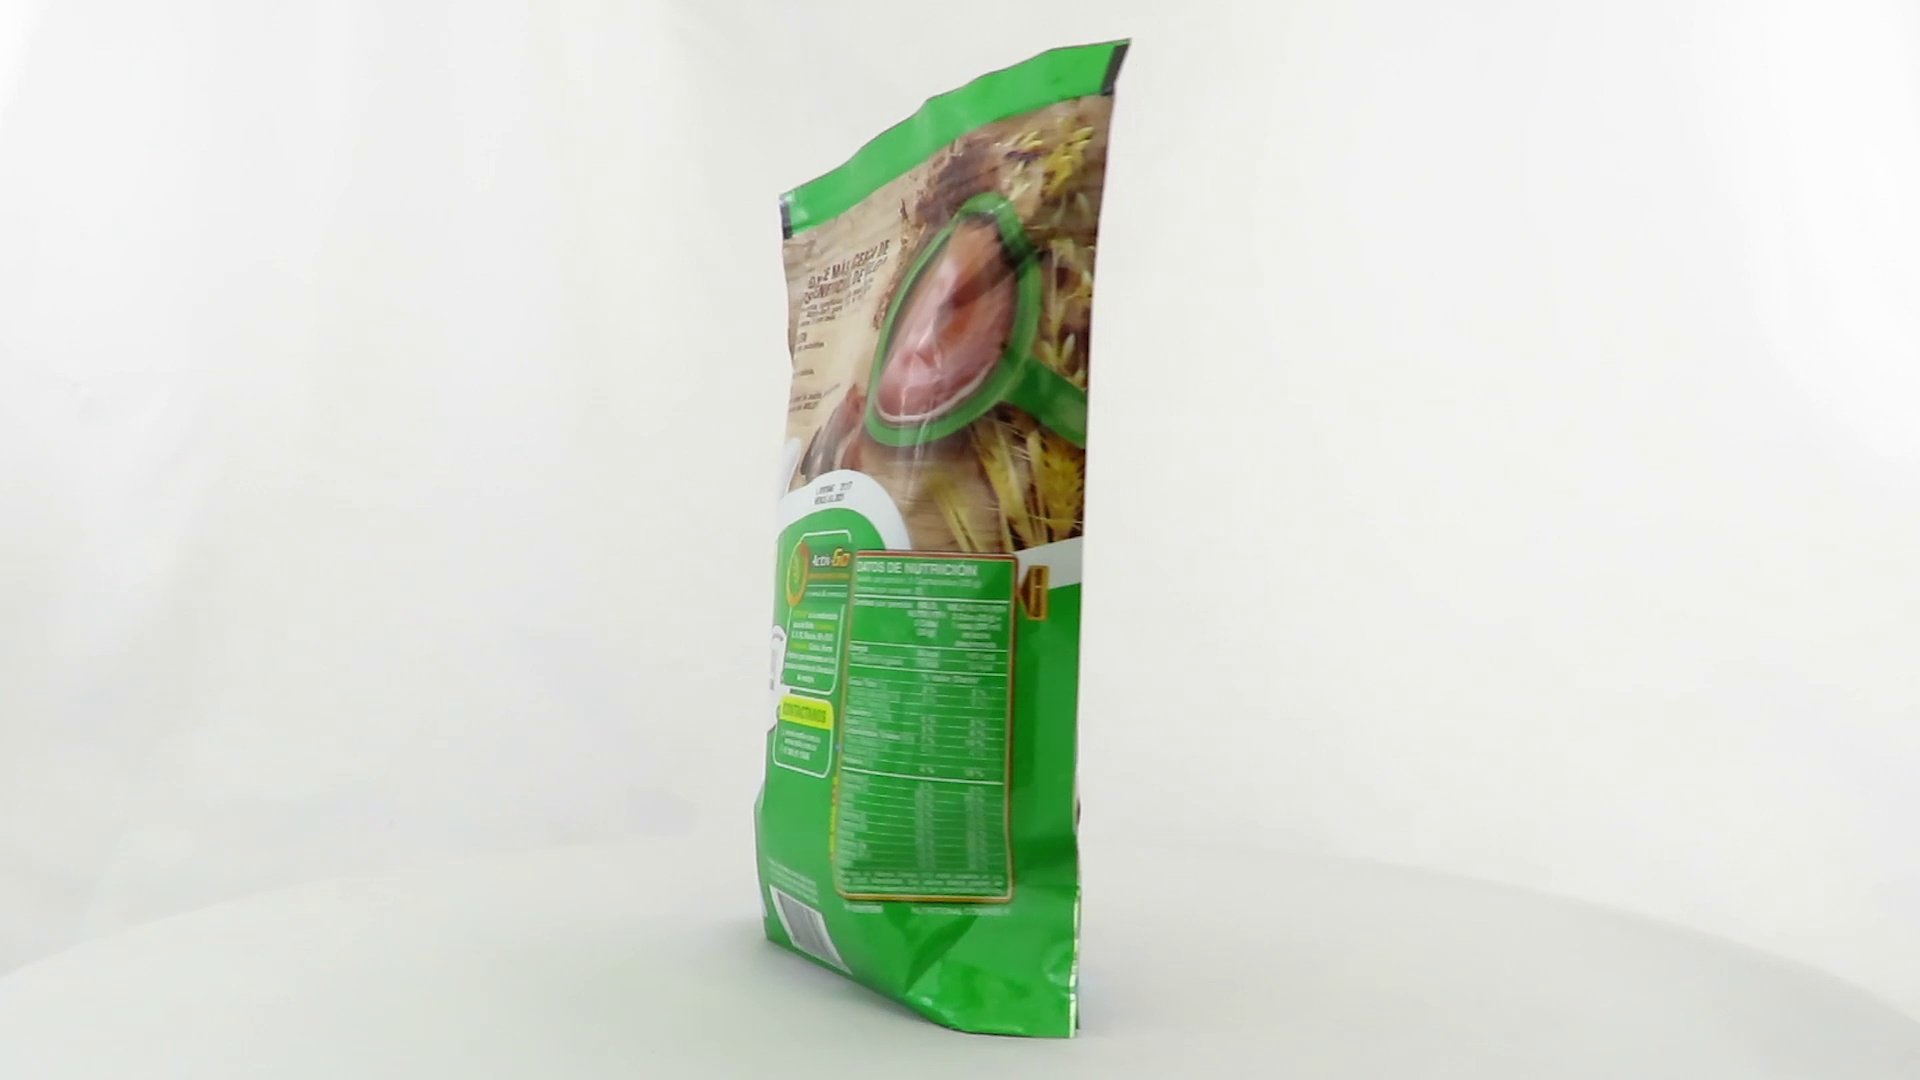COL0170205DYP50000: (748, 33, 1138, 1044)
